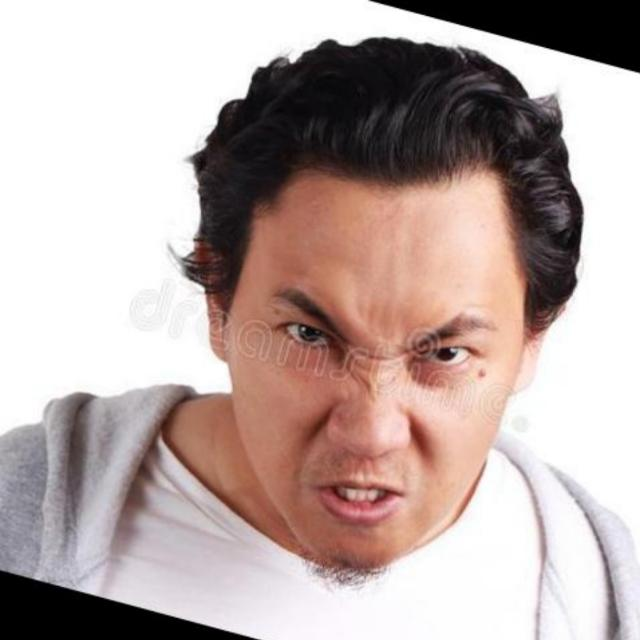Angry: (195, 74, 570, 608)
